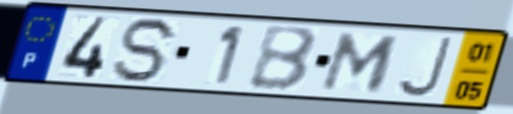1: (213, 23, 245, 87)
4: (57, 14, 110, 81)
B: (246, 25, 321, 93)
J: (394, 35, 456, 100)
M: (316, 30, 404, 94)
S: (109, 15, 184, 85)
